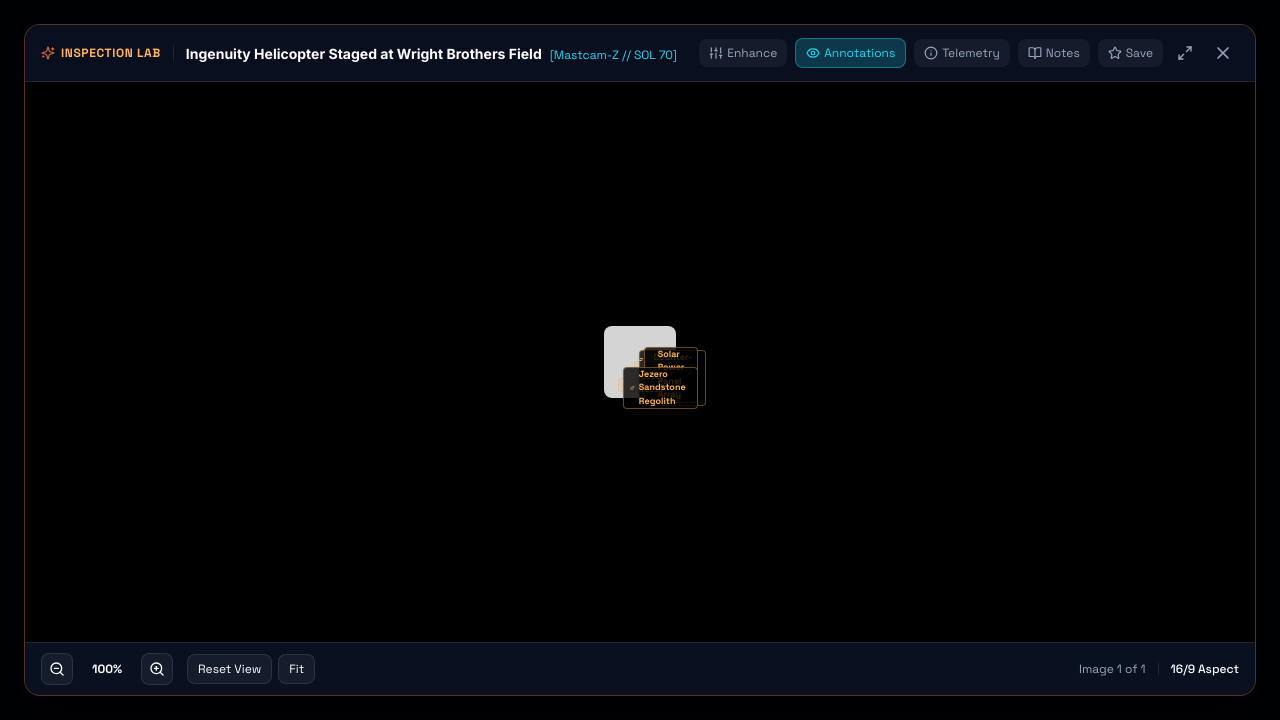
Test: Phase 4 — Mars Rover Explorer Test Suite › Requirement 9: Reset View restores magnification to 100%
Click the button titled "Zoom In" at (157, 669), box [141, 653, 173, 685]
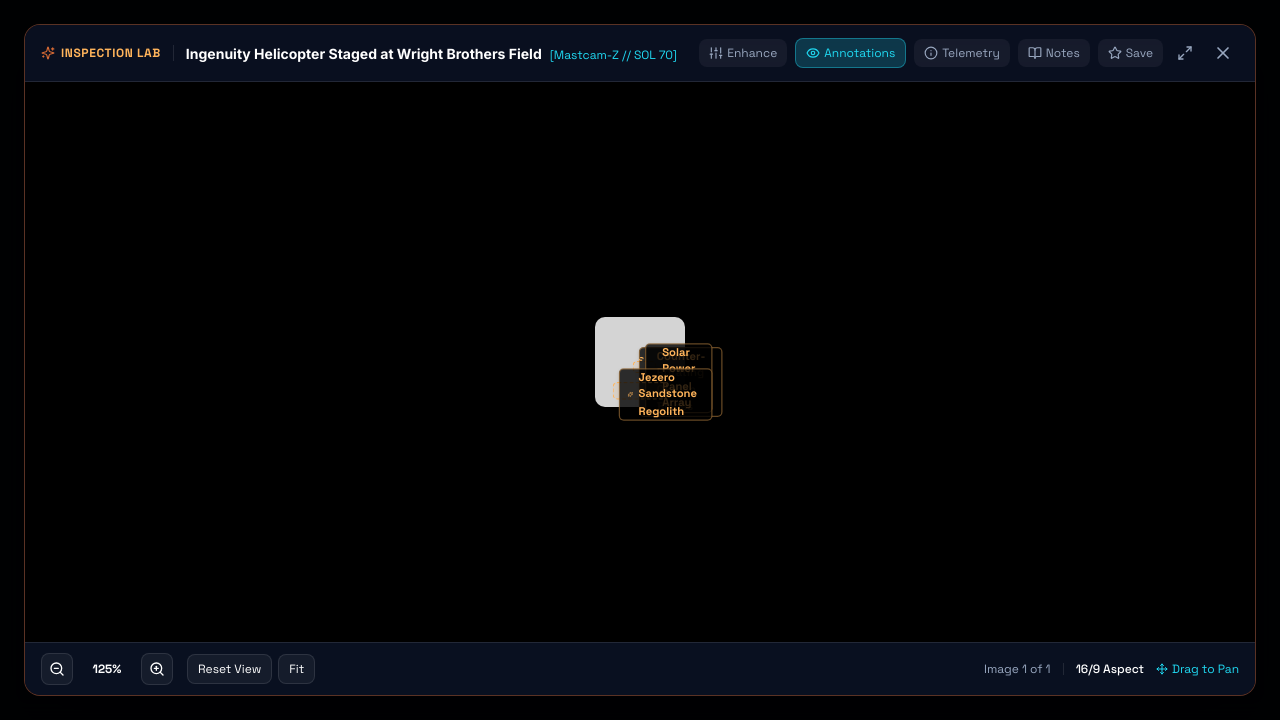
Click the button titled "Zoom In" at (157, 669), box [141, 653, 173, 685]
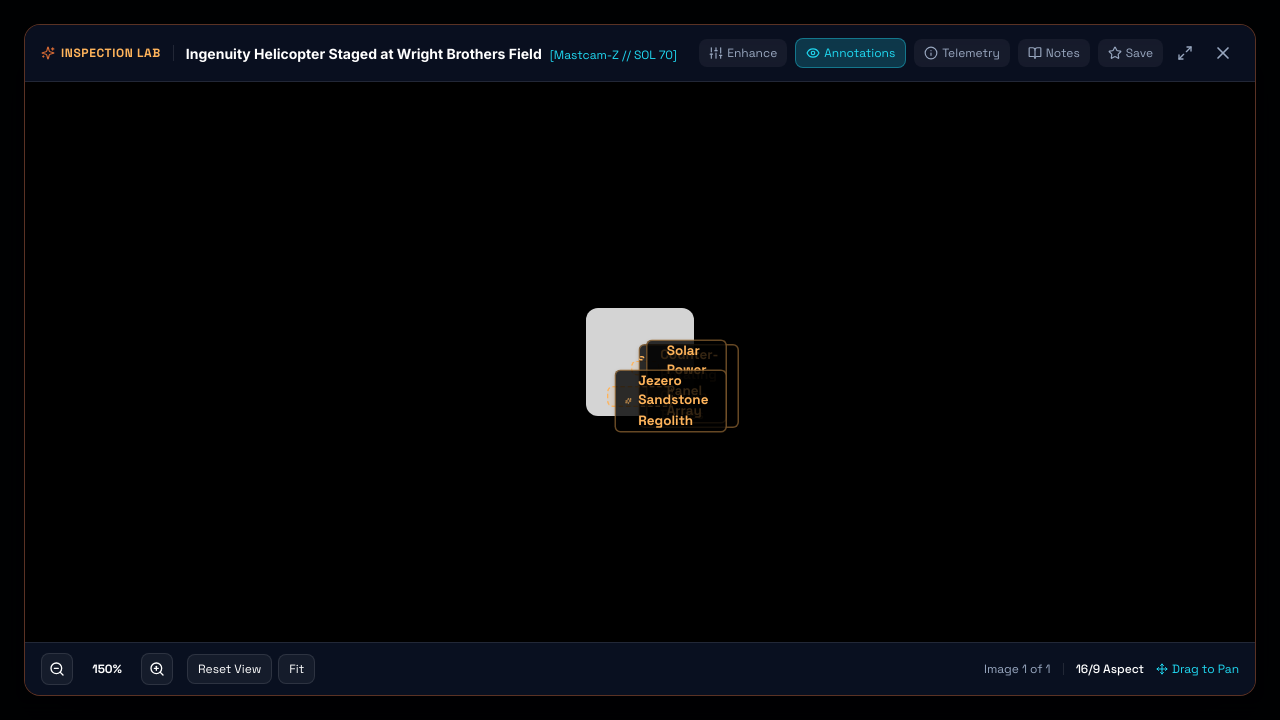
Result: the text "150%" is shown at [92, 661, 122, 677]
Click the button titled "Reset View" at (230, 669), box [187, 654, 272, 684]
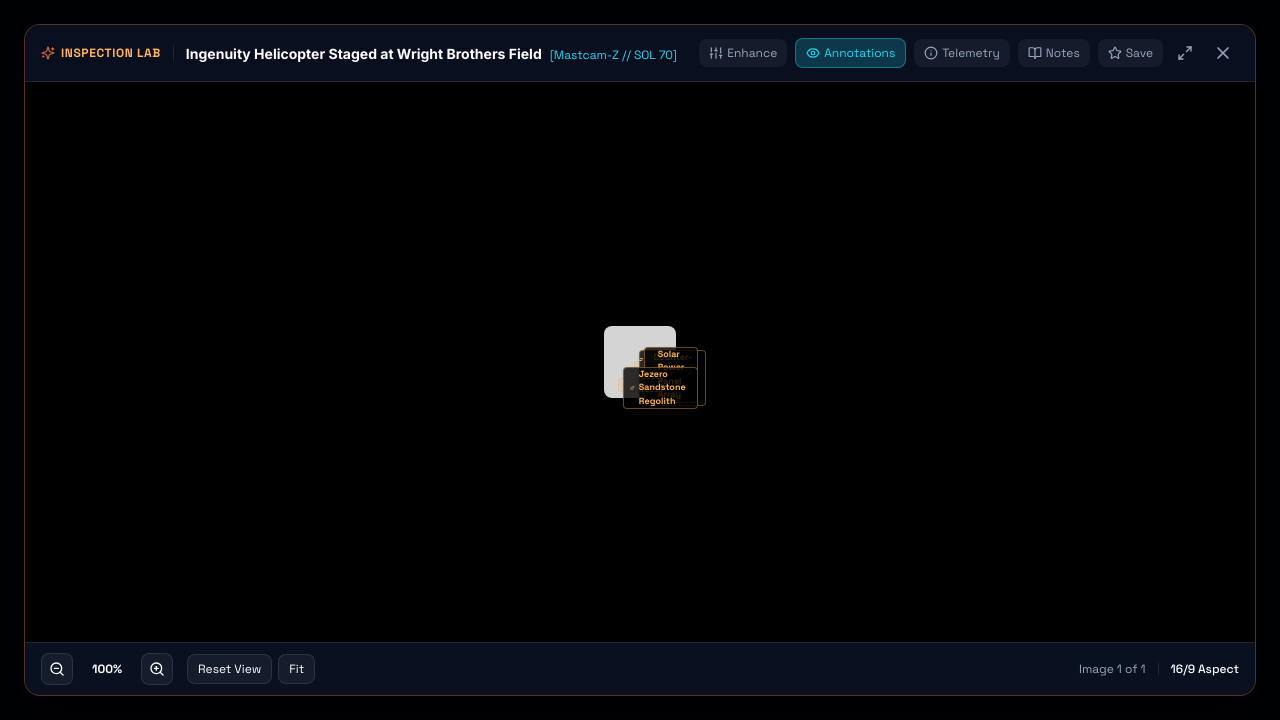
Result: the text "100%" is shown at [92, 661, 122, 677]
